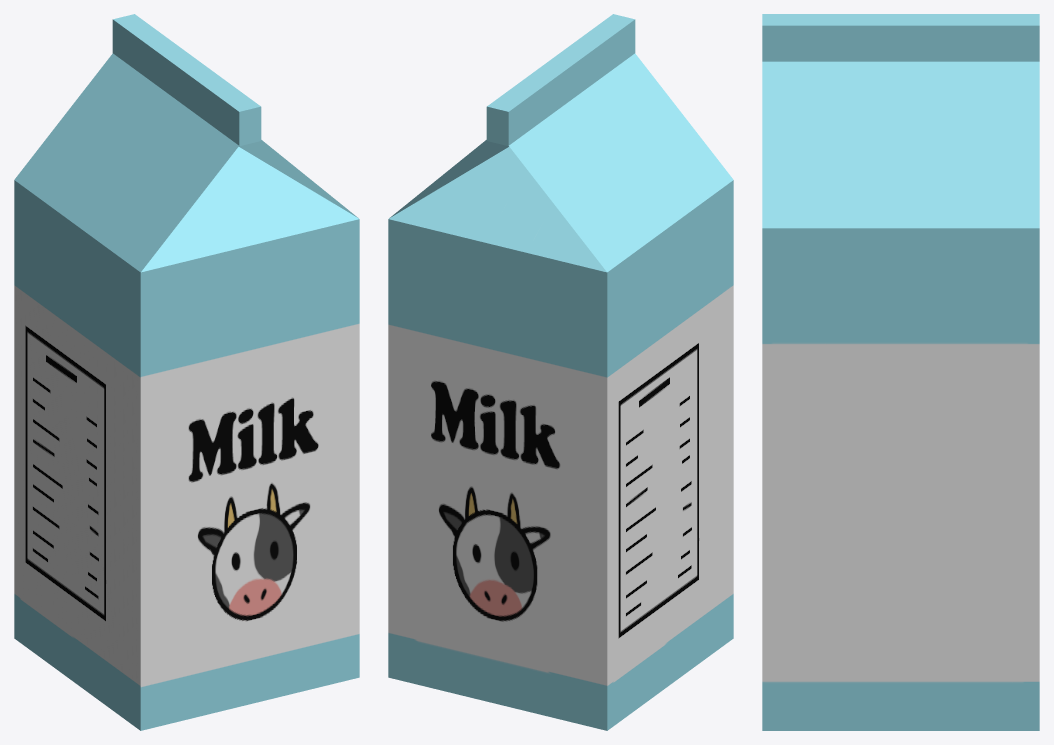
Rendered from milk.glb.
3 views of the same model, side by side, from view 1: azimuth 30°, elevation 25°; view 2: azimuth 150°, elevation 25°; view 3: azimuth 270°, elevation 25° (orthographic). The views are drawn at different scales.
Parts seen in each view (by area): view 1: Cube.001; view 2: Cube.001; view 3: Cube.001.
Part boxes in pixels (left/top/right/bottom): Cube.001: left=14, top=14, right=359, bottom=730; Cube.001: left=388, top=14, right=733, bottom=730; Cube.001: left=762, top=14, right=1039, bottom=730.
Bounding box in the file's own units: 1 × 2.6 × 1.
Materials: 1 (1 with a texture image).
